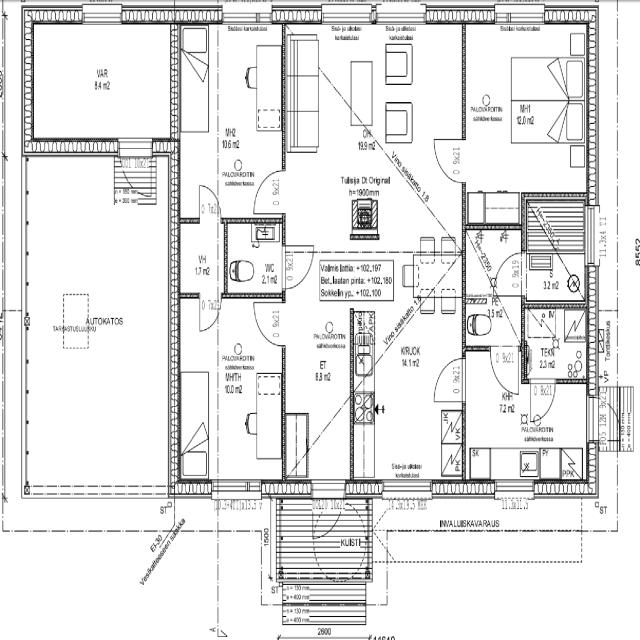door: (116, 147, 154, 210), (430, 352, 468, 404), (250, 165, 286, 216), (311, 488, 345, 541), (488, 342, 520, 395), (252, 298, 284, 347), (283, 242, 315, 291), (432, 135, 465, 182), (492, 248, 524, 293), (530, 377, 556, 423), (196, 181, 222, 221), (198, 294, 220, 334)
window: (319, 1, 376, 27), (371, 2, 430, 27), (220, 3, 274, 30), (493, 3, 546, 27), (80, 1, 124, 26), (379, 476, 431, 497), (583, 204, 598, 268), (216, 477, 260, 498), (493, 478, 536, 496)
zone: (282, 18, 463, 480), (463, 25, 590, 193), (181, 22, 286, 218), (30, 21, 176, 138), (206, 297, 284, 483), (462, 382, 593, 484), (523, 308, 589, 384), (224, 218, 284, 298), (177, 221, 223, 296), (463, 298, 522, 346)
